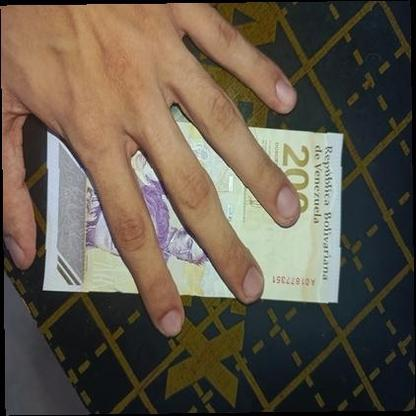two_hundred-front-vef: (42, 120, 344, 304)
